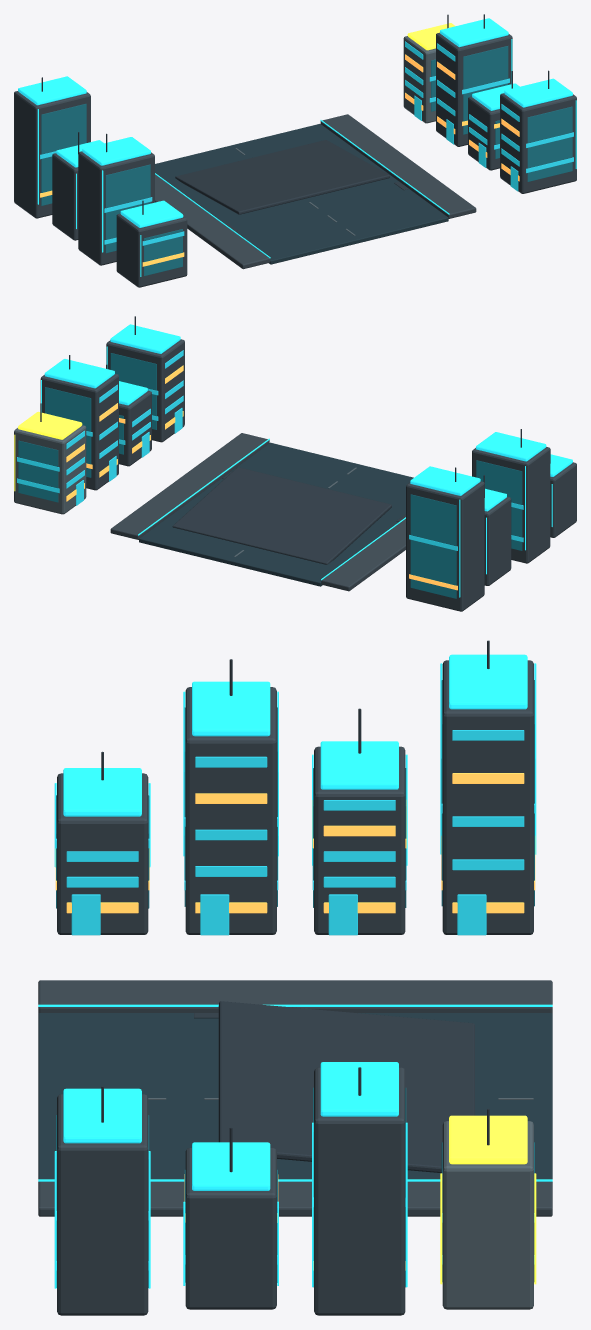
Rendered from ramp_down_lod0.glb.
The picture shows the model from 3 angles, top to bottom: view 1: azimuth 30°, elevation 25°; view 2: azimuth 150°, elevation 25°; view 3: azimuth 270°, elevation 25°; orthographic projection. The views are drawn at different scales.
Visible parts, largest first — view 1: ND_Batch_ND_CityConcrete, ND_Batch_ND_WetAsphalt, ND_Batch_ND_DarkGlass, ND_Batch_ND_RooftopMetal, ND_Batch_ND_CityCyanMuted, ND_Batch_ND_RoadEdge, ND_Batch_ND_NeonGlass, ND_Batch_ND_CityConcreteLight, ND_Batch_ND_WarmWindow, ND_Batch_ND_PackageGold; view 2: ND_Batch_ND_CityConcrete, ND_Batch_ND_RooftopMetal, ND_Batch_ND_WetAsphalt, ND_Batch_ND_DarkGlass, ND_Batch_ND_CityCyanMuted, ND_Batch_ND_RoadEdge, ND_Batch_ND_NeonGlass, ND_Batch_ND_CityConcreteLight, ND_Batch_ND_PackageGold, ND_Batch_ND_WarmWindow; view 3: ND_Batch_ND_CityConcrete, ND_Batch_ND_CityCyanMuted, ND_Batch_ND_WetAsphalt, ND_Batch_ND_RooftopMetal, ND_Batch_ND_RoadEdge, ND_Batch_ND_NeonGlass, ND_Batch_ND_CityConcreteLight, ND_Batch_ND_WarmWindow, ND_Batch_ND_PackageGold, ND_Batch_ND_DarkGlass.
Boxes of the visible parts, x1,y1,x2,y2 form: ND_Batch_ND_CityConcrete: (14, 32, 576, 287); ND_Batch_ND_WetAsphalt: (155, 124, 448, 264); ND_Batch_ND_DarkGlass: (41, 46, 572, 275); ND_Batch_ND_RooftopMetal: (41, 14, 549, 231); ND_Batch_ND_CityCyanMuted: (18, 18, 576, 276); ND_Batch_ND_RoadEdge: (155, 114, 476, 269); ND_Batch_ND_NeonGlass: (40, 41, 573, 245); ND_Batch_ND_CityConcreteLight: (235, 36, 435, 235); ND_Batch_ND_WarmWindow: (40, 54, 519, 266); ND_Batch_ND_PackageGold: (407, 23, 455, 50); ND_Batch_ND_CityConcrete: (40, 339, 576, 611); ND_Batch_ND_RooftopMetal: (40, 316, 550, 564); ND_Batch_ND_WetAsphalt: (139, 442, 413, 586); ND_Batch_ND_DarkGlass: (18, 353, 522, 598); ND_Batch_ND_CityCyanMuted: (41, 324, 572, 597); ND_Batch_ND_RoadEdge: (110, 433, 405, 591); ND_Batch_ND_NeonGlass: (17, 350, 523, 550); ND_Batch_ND_CityConcreteLight: (14, 425, 356, 556); ND_Batch_ND_PackageGold: (14, 411, 82, 491); ND_Batch_ND_WarmWindow: (66, 365, 457, 590); ND_Batch_ND_CityConcrete: (57, 660, 533, 1315); ND_Batch_ND_CityCyanMuted: (38, 654, 552, 1288); ND_Batch_ND_WetAsphalt: (38, 1013, 552, 1182); ND_Batch_ND_RooftopMetal: (101, 640, 489, 1172); ND_Batch_ND_RoadEdge: (38, 980, 552, 1216); ND_Batch_ND_NeonGlass: (55, 730, 535, 1270); ND_Batch_ND_CityConcreteLight: (148, 1098, 533, 1309); ND_Batch_ND_WarmWindow: (55, 773, 535, 1270); ND_Batch_ND_PackageGold: (440, 1115, 536, 1284); ND_Batch_ND_DarkGlass: (56, 680, 534, 1287).
Bounding box in the file's own units: 40 × 11.43 × 20.
